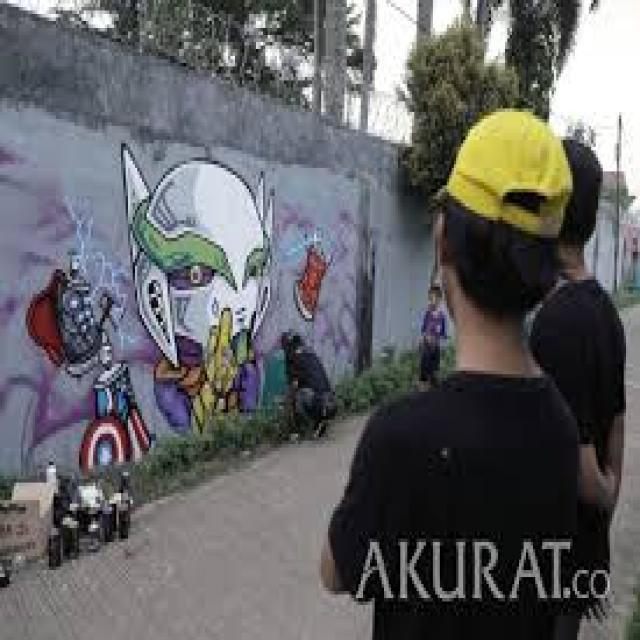-: (24, 144, 337, 460)
